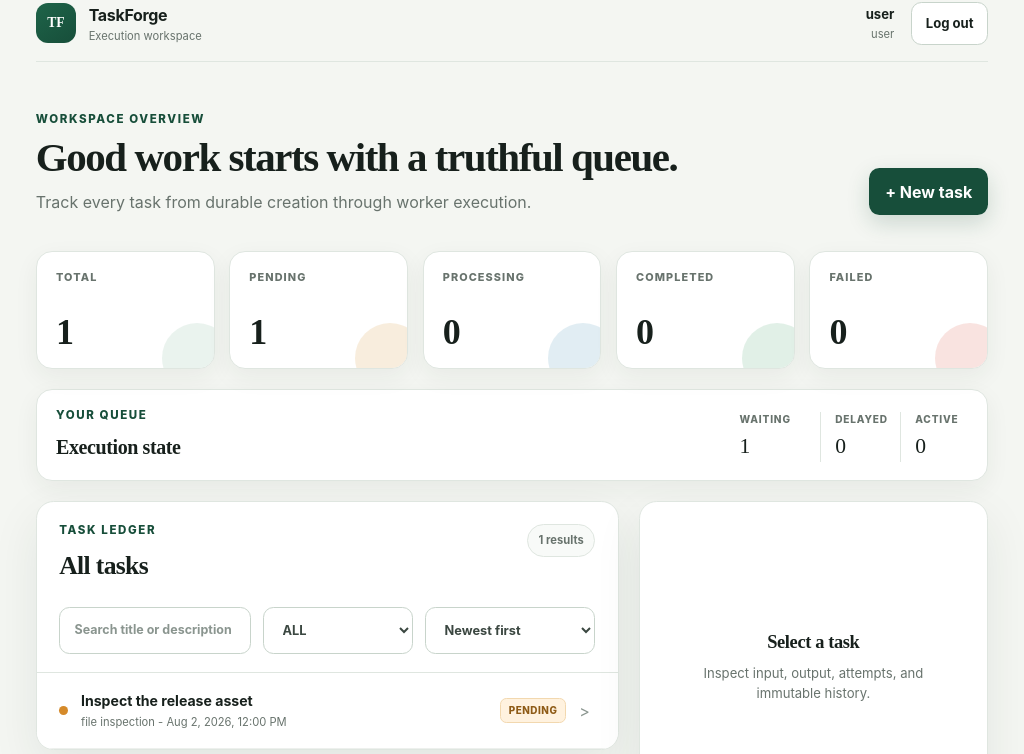
Test case: Task workspace › refetches selected pending detail and history when a status event was missed
Click the button "Inspect the release asset".
click(167, 701)  # box top-left (37, 673), bottom-right (618, 749)
Wait 2100 ms
(page scrolled)
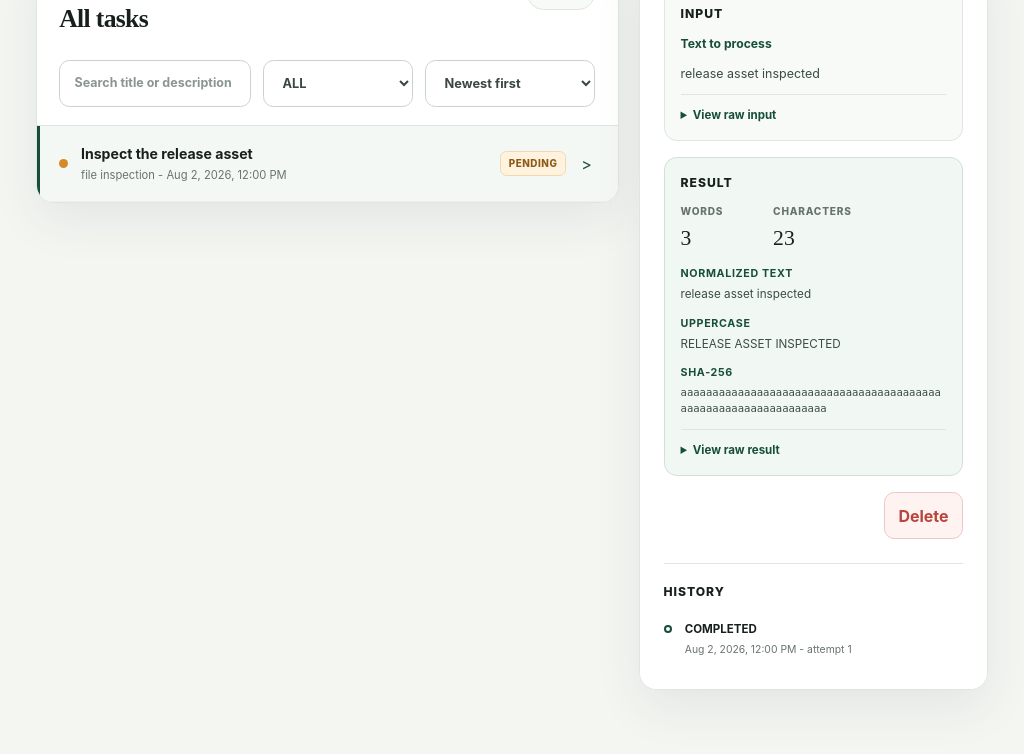
Expected: the text "Text to process" is shown, top-left (680, 36), bottom-right (772, 51)
Expected: the text "Normalized text" is shown, top-left (680, 267), bottom-right (793, 280)
Expected: the heading "View raw input" is shown, top-left (680, 107), bottom-right (776, 124)
